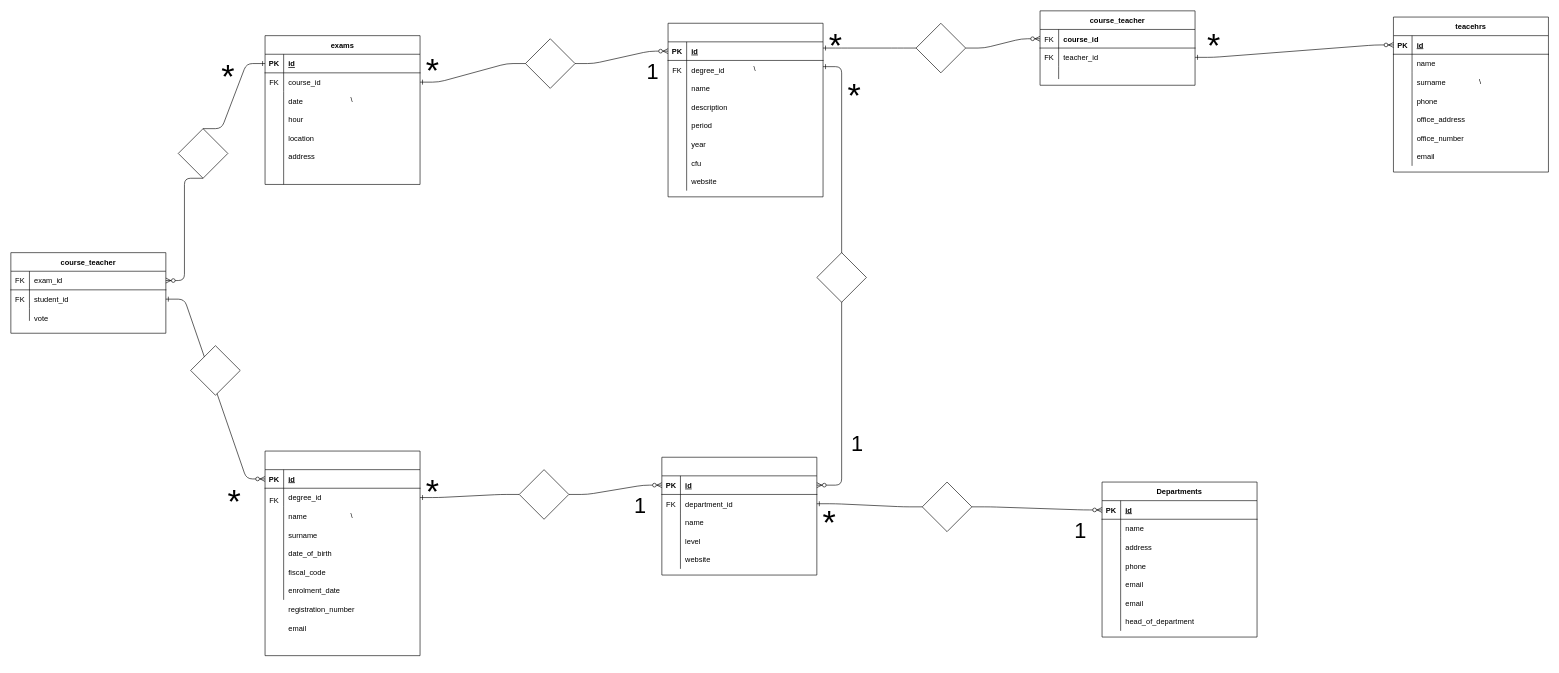
This 1559x673 diagram has some shape labels left out. Here are the shapes that lost their labels. From the top down, the box of each, then its label:
(667, 23, 823, 197): courses
(661, 457, 817, 575): Degrees
(264, 450, 420, 656): students
